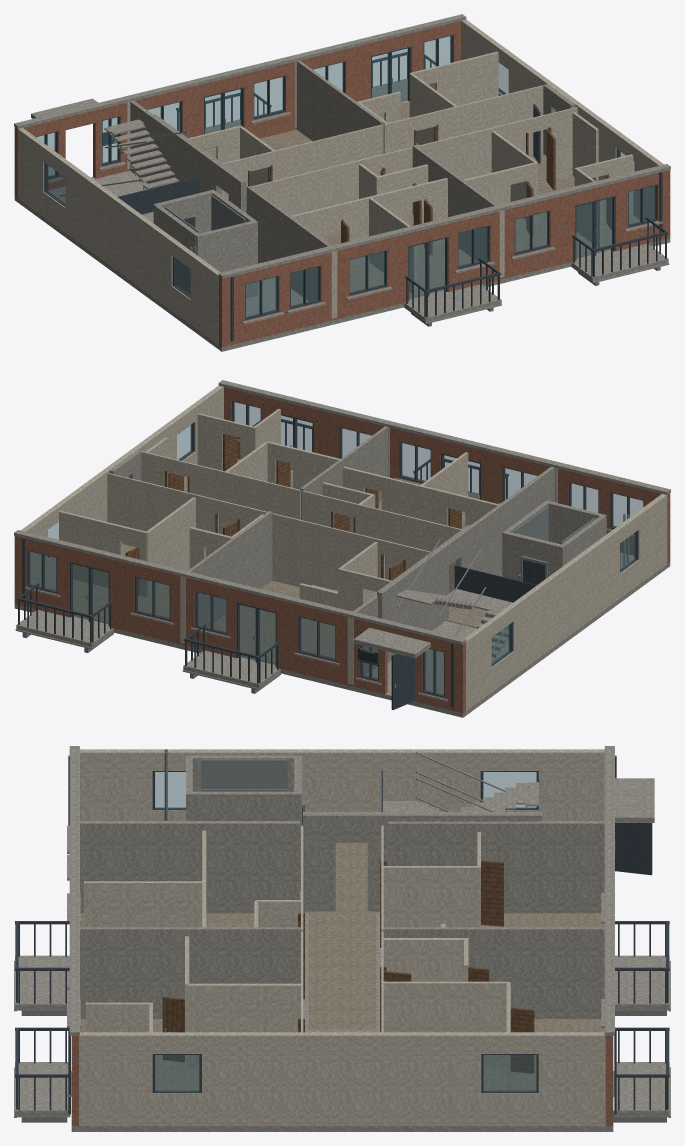
The model's file is PZ_Midrise_GroundLobby_Storey.glb.
3 views of the same model, one above another, from view 1: azimuth 30°, elevation 25°; view 2: azimuth 150°, elevation 25°; view 3: azimuth 270°, elevation 25° (orthographic). The views are drawn at different scales.
Parts seen in each view (by area): view 1: Story_Ground_BackRedBrick_TrueWindowAndDoorApertures, Story_Ground_WestConcreteEndWall, Story_Ground_AcousticPartyWalls, Story_Ground_FrontRedBrick_TrueWindowAndDoorApertures, Story_Ground_EastConcreteEndWall, Story_Ground_Flex_D_CorridorEntryWall_TRUE_0p90m_OPENING, Story_Ground_GroundFloorSlab_20x16, Story_Ground_OneBed_B_CorridorEntryWall_TRUE_0p90m_OPENING, Story_Ground_TwoBed_C_CorridorEntryWall_TRUE_0p90m_OPENING, Story_Ground_Studio_A_CorridorEntryWall_TRUE_0p90m_OPENING, Story_Ground_TwoBed_C_TwoBedroomsMainDivider, Story_Ground_BackHorizontalConcreteBand (+49 smaller); view 2: Story_Ground_FrontRedBrick_TrueWindowAndDoorApertures, Story_Ground_WestConcreteEndWall, Story_Ground_AcousticPartyWalls, Story_Ground_BackRedBrick_TrueWindowAndDoorApertures, Story_Ground_Studio_A_CorridorEntryWall_TRUE_0p90m_OPENING, Story_Ground_EastConcreteEndWall, Story_Ground_OneBed_B_CorridorEntryWall_TRUE_0p90m_OPENING, Story_Ground_Flex_D_CorridorEntryWall_TRUE_0p90m_OPENING, Story_Ground_TwoBed_C_CorridorEntryWall_TRUE_0p90m_OPENING, Story_Ground_GroundFloorSlab_20x16, Story_Ground_TwoBed_C_TwoBedroomsMainDivider, Story_Ground_FrontHorizontalConcreteBand (+44 smaller); view 3: Story_Ground_AcousticPartyWalls, Story_Ground_EastConcreteEndWall, Story_Ground_WestConcreteEndWall, Story_Ground_CorridorTileSurface, Story_Ground_OneBed_B_BedroomDivider_NS, Story_Ground_Studio_A_BathroomDivider_NS, Story_Ground_ElevatorAndUStair_CoreToHallFireDoorAperture, Story_Ground_Flex_D_BedroomSide, Story_Ground_TwoBed_C_BedroomSeparation, Story_Ground_GroundFloorSlab_20x16, Story_Ground_OneBed_B_BathDivider_NS, Story_Ground_FrontHorizontalConcreteBand (+34 smaller).
Part boxes in pixels (x1=…): Story_Ground_BackRedBrick_TrueWindowAndDoorApertures: x1=219, y1=170, x2=670, y2=347; Story_Ground_WestConcreteEndWall: x1=17, y1=128, x2=220, y2=344; Story_Ground_AcousticPartyWalls: x1=130, y1=60, x2=497, y2=301; Story_Ground_FrontRedBrick_TrueWindowAndDoorApertures: x1=14, y1=21, x2=460, y2=197; Story_Ground_EastConcreteEndWall: x1=461, y1=19, x2=663, y2=220; Story_Ground_Flex_D_CorridorEntryWall_TRUE_0p90m_OPENING: x1=417, y1=107, x2=577, y2=179; Story_Ground_GroundFloorSlab_20x16: x1=14, y1=100, x2=670, y2=351; Story_Ground_OneBed_B_CorridorEntryWall_TRUE_0p90m_OPENING: x1=384, y1=85, x2=543, y2=156; Story_Ground_TwoBed_C_CorridorEntryWall_TRUE_0p90m_OPENING: x1=251, y1=147, x2=412, y2=235; Story_Ground_Studio_A_CorridorEntryWall_TRUE_0p90m_OPENING: x1=222, y1=124, x2=382, y2=199; Story_Ground_TwoBed_C_TwoBedroomsMainDivider: x1=291, y1=178, x2=447, y2=266; Story_Ground_BackHorizontalConcreteBand: x1=218, y1=164, x2=670, y2=278; Story_Ground_FrontRedBrick_TrueWindowAndDoorApertures: x1=14, y1=536, x2=465, y2=713; Story_Ground_WestConcreteEndWall: x1=464, y1=494, x2=667, y2=710; Story_Ground_AcousticPartyWalls: x1=187, y1=426, x2=554, y2=674; Story_Ground_BackRedBrick_TrueWindowAndDoorApertures: x1=224, y1=387, x2=670, y2=563; Story_Ground_Studio_A_CorridorEntryWall_TRUE_0p90m_OPENING: x1=272, y1=513, x2=430, y2=590; Story_Ground_EastConcreteEndWall: x1=21, y1=385, x2=223, y2=585; Story_Ground_OneBed_B_CorridorEntryWall_TRUE_0p90m_OPENING: x1=107, y1=473, x2=267, y2=556; Story_Ground_Flex_D_CorridorEntryWall_TRUE_0p90m_OPENING: x1=139, y1=450, x2=300, y2=534; Story_Ground_TwoBed_C_CorridorEntryWall_TRUE_0p90m_OPENING: x1=302, y1=490, x2=461, y2=593; Story_Ground_GroundFloorSlab_20x16: x1=14, y1=469, x2=670, y2=717; Story_Ground_TwoBed_C_TwoBedroomsMainDivider: x1=342, y1=466, x2=498, y2=532; Story_Ground_FrontHorizontalConcreteBand: x1=14, y1=530, x2=466, y2=644; Story_Ground_AcousticPartyWalls: x1=80, y1=821, x2=604, y2=1018; Story_Ground_EastConcreteEndWall: x1=79, y1=1032, x2=605, y2=1125; Story_Ground_WestConcreteEndWall: x1=80, y1=749, x2=604, y2=825; Story_Ground_CorridorTileSurface: x1=308, y1=911, x2=376, y2=1029; Story_Ground_OneBed_B_BedroomDivider_NS: x1=383, y1=981, x2=508, y2=1067; Story_Ground_Studio_A_BathroomDivider_NS: x1=383, y1=866, x2=480, y2=927; Story_Ground_ElevatorAndUStair_CoreToHallFireDoorAperture: x1=303, y1=812, x2=387, y2=912; Story_Ground_Flex_D_BedroomSide: x1=187, y1=983, x2=300, y2=1068; Story_Ground_TwoBed_C_BedroomSeparation: x1=84, y1=881, x2=202, y2=927; Story_Ground_GroundFloorSlab_20x16: x1=71, y1=891, x2=613, y2=1131; Story_Ground_OneBed_B_BathDivider_NS: x1=383, y1=938, x2=468, y2=981; Story_Ground_FrontHorizontalConcreteBand: x1=604, y1=746, x2=614, y2=1035.
Size of the model in its own units: 20 by 4.56 by 19.41.
Materials: 9 (9 with a texture image).
